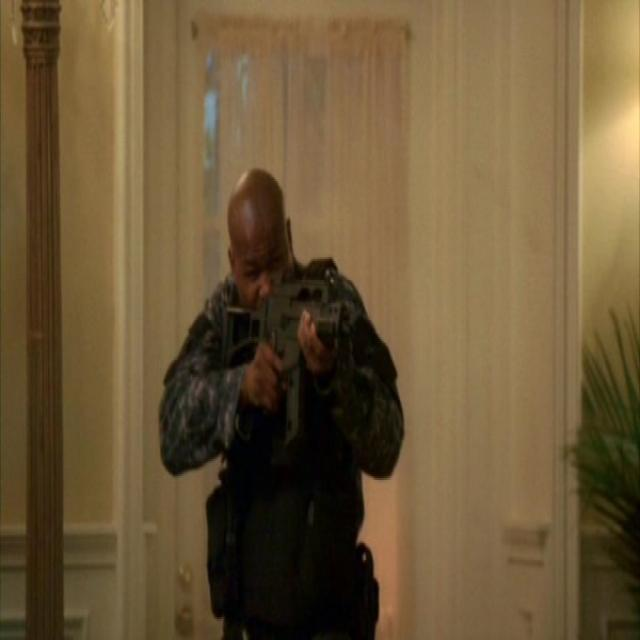rifle: (218, 278, 358, 440)
